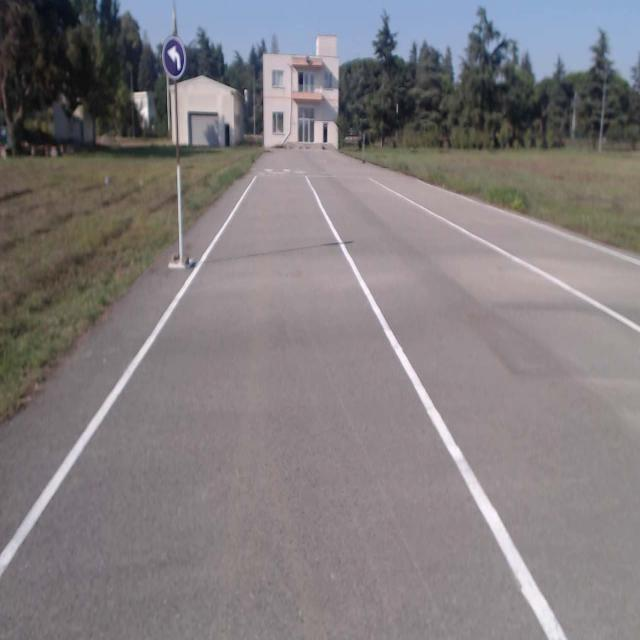sol: (162, 36, 186, 80)
